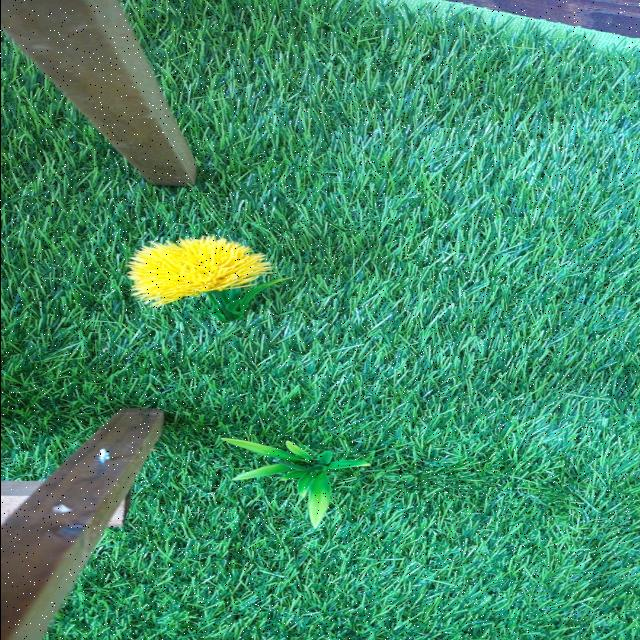base: (227, 438, 366, 526), (205, 274, 289, 322)
flower: (130, 238, 268, 304)
